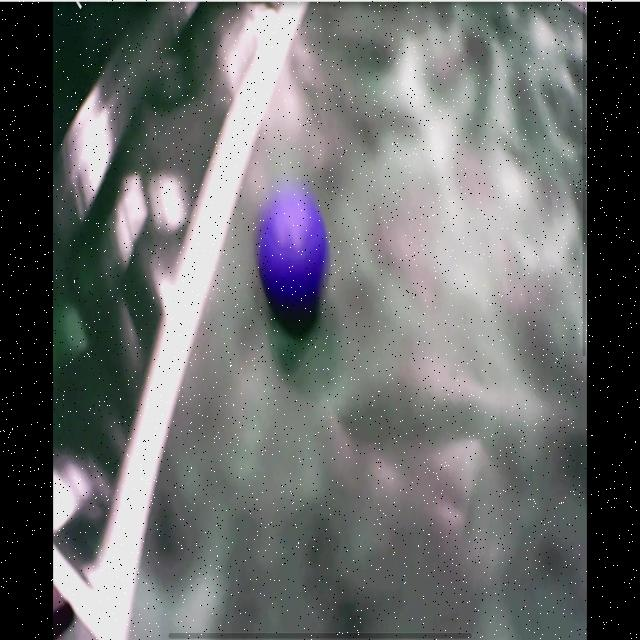ball: (258, 192, 329, 305)
